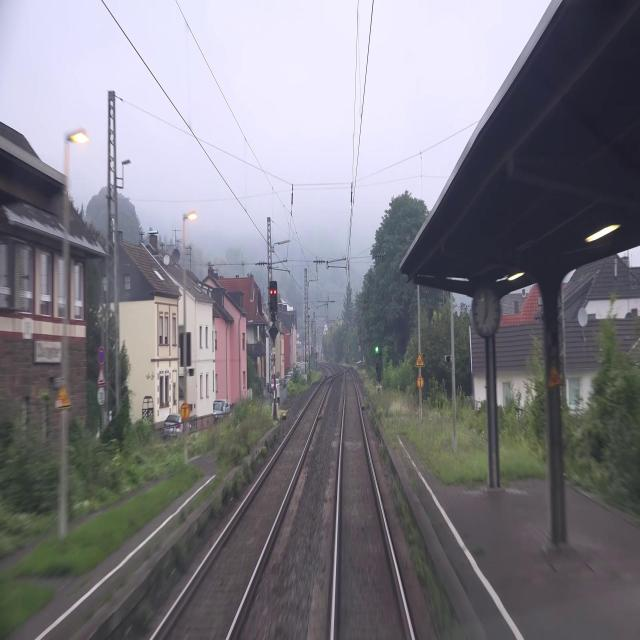rail-track: (156, 380, 327, 639), (335, 372, 410, 639)
